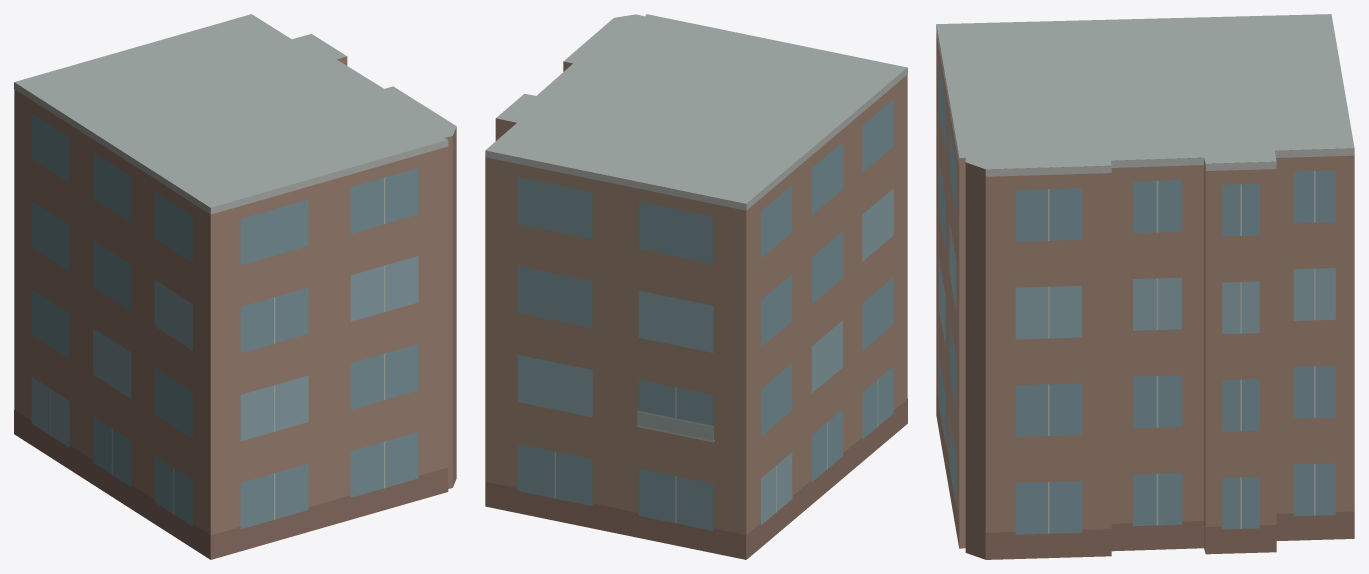
Rendered from survey-upis-32978504.glb.
3 renders of one model, left to right at view 1: azimuth 30°, elevation 25°; view 2: azimuth 150°, elevation 25°; view 3: azimuth 270°, elevation 25°, orthographic. The views are drawn at different scales.
Visible parts, largest first — view 1: survey-upis-32978504.tmp; view 2: survey-upis-32978504.tmp; view 3: survey-upis-32978504.tmp.
Boxes of the visible parts, left/top/right/bottom form: survey-upis-32978504.tmp: left=14, top=14, right=456, bottom=559; survey-upis-32978504.tmp: left=485, top=14, right=907, bottom=559; survey-upis-32978504.tmp: left=936, top=14, right=1354, bottom=559.
Size of the model in its own units: 10.93 by 12.8 by 12.43.
